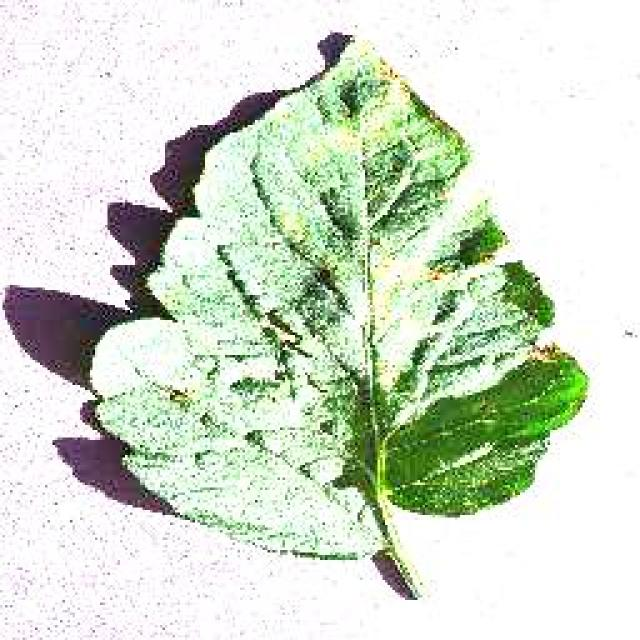Tomato___Target_Spot: (90, 42, 588, 598)
